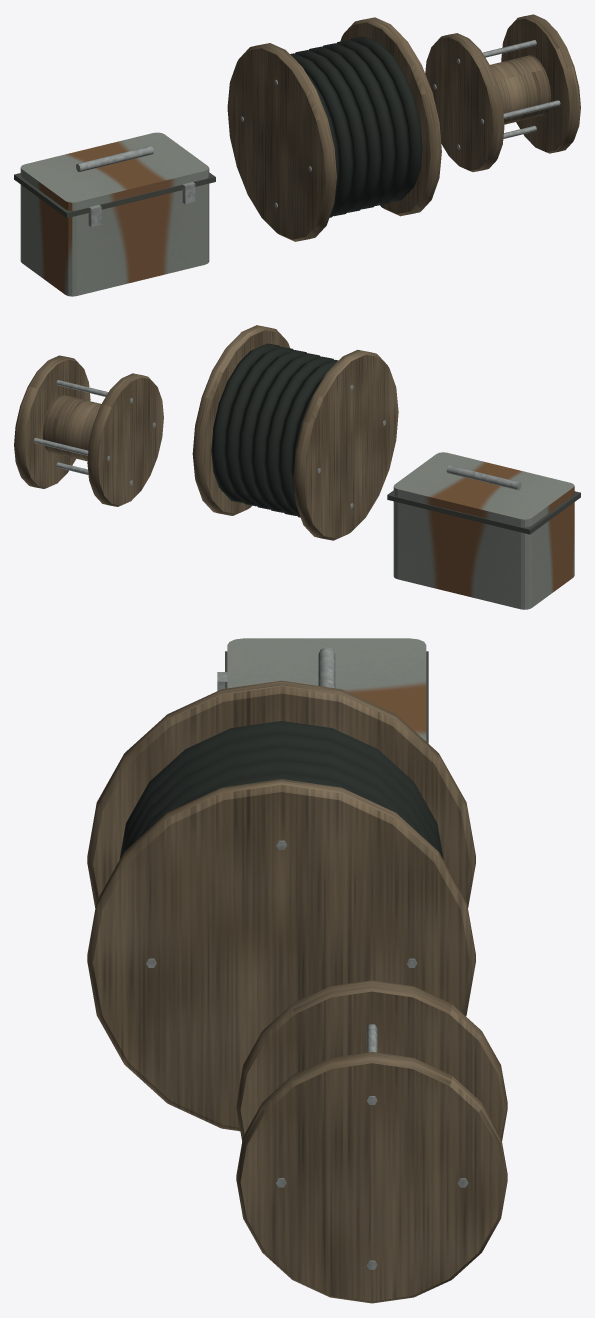
File: SM_SubstationSite_Equipment.fbx
3 views of the same model, one above another, from view 1: azimuth 30°, elevation 25°; view 2: azimuth 150°, elevation 25°; view 3: azimuth 270°, elevation 25° (orthographic). The views are drawn at different scales.
Visible parts, largest first — view 1: SM_SubstationSite_Equipment; view 2: SM_SubstationSite_Equipment; view 3: SM_SubstationSite_Equipment.
Part boxes in pixels (x1,y1,x2,y2): SM_SubstationSite_Equipment: (14, 14, 580, 296); SM_SubstationSite_Equipment: (14, 325, 580, 609); SM_SubstationSite_Equipment: (87, 638, 507, 1303).
Bounding box in the file's own units: 2.54 × 0.93 × 0.86.
